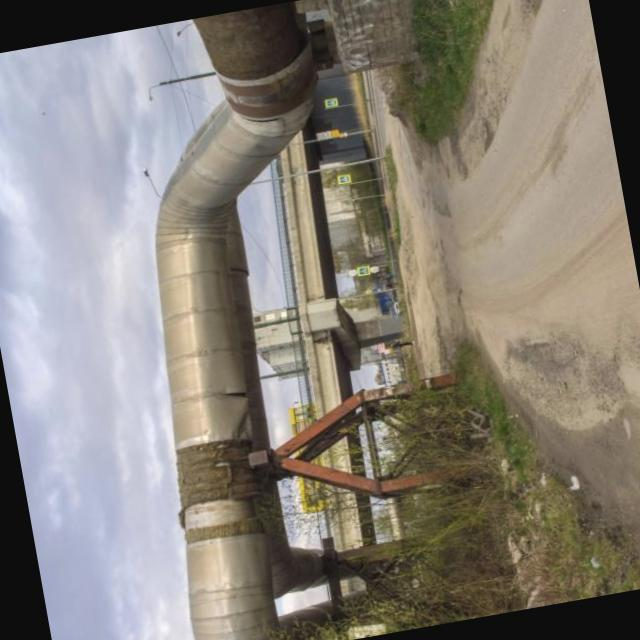gas: (155, 0, 332, 640)
